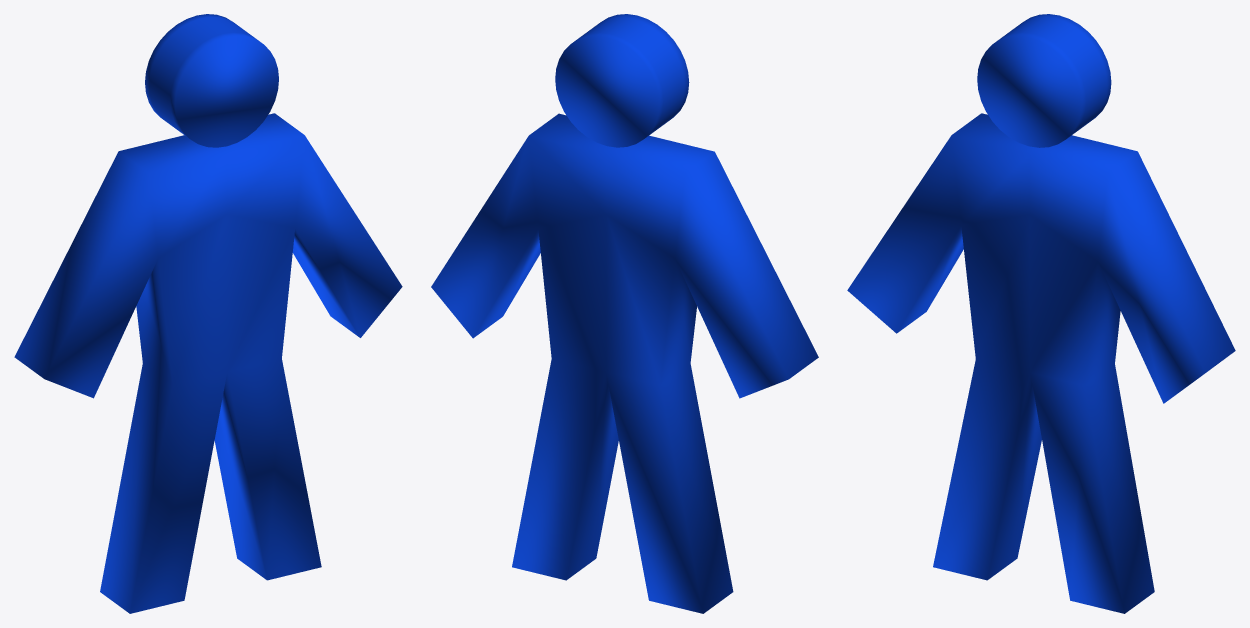
File: Male_Toilet.fbx
The picture shows the model from 3 angles, left to right: view 1: azimuth 30°, elevation 25°; view 2: azimuth 150°, elevation 25°; view 3: azimuth 330°, elevation 25°; orthographic projection.
Visible parts, largest first — view 1: Male; view 2: Male; view 3: Male.
Part boxes in pixels (left/top/right/bottom): Male: left=14, top=14, right=402, bottom=613; Male: left=431, top=14, right=818, bottom=613; Male: left=847, top=14, right=1235, bottom=613.
Size of the model in its own units: 688 by 1016 by 101.
